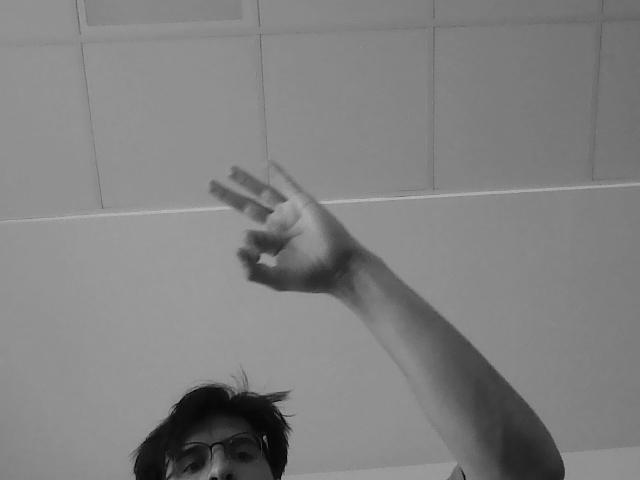OK: (192, 166, 362, 294)
